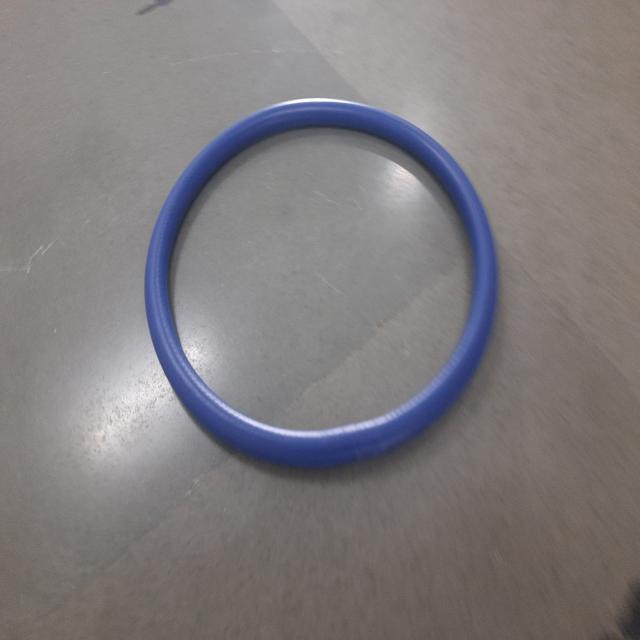daire: (146, 97, 505, 470)
